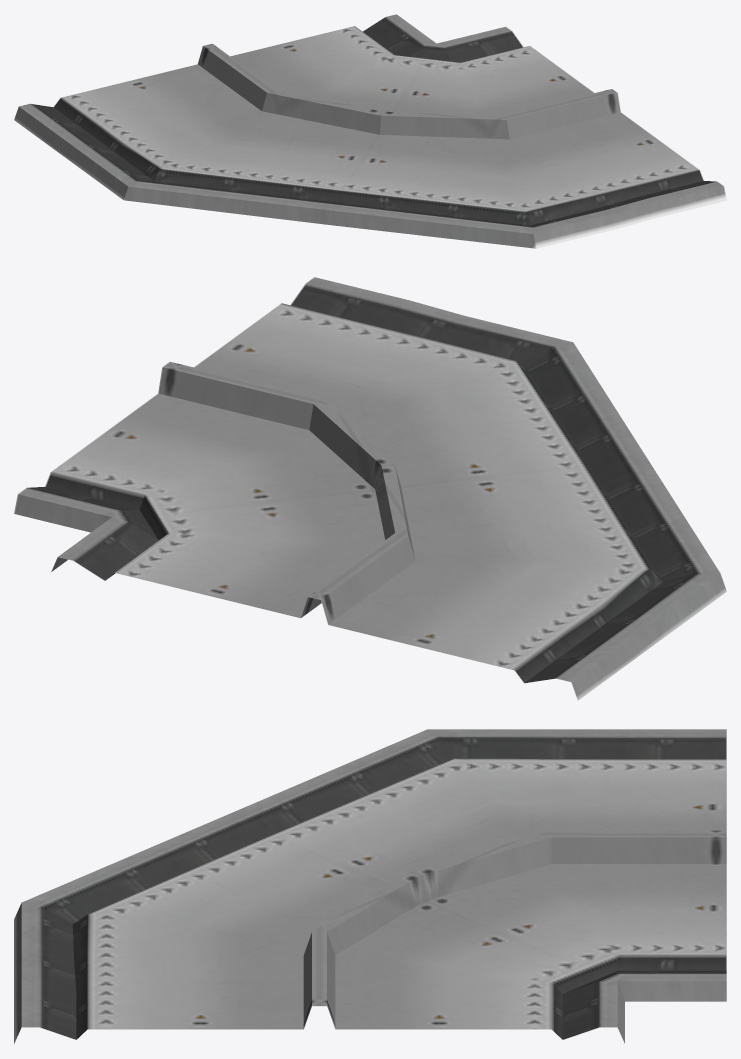
File: road_L.glb
3 renders of one model, top to bottom at view 1: azimuth 30°, elevation 25°; view 2: azimuth 150°, elevation 25°; view 3: azimuth 270°, elevation 25°, orthographic. The views are drawn at different scales.
Visible parts, largest first — view 1: Plane.001; view 2: Plane.001; view 3: Plane.001.
Part boxes in pixels (bbox=[...]): Plane.001: bbox=[14, 14, 726, 248]; Plane.001: bbox=[14, 277, 726, 700]; Plane.001: bbox=[14, 729, 726, 1043].
Size of the model in its own units: 17.5 by 1.1 by 17.5.
Materials: 1 (1 with a texture image).
